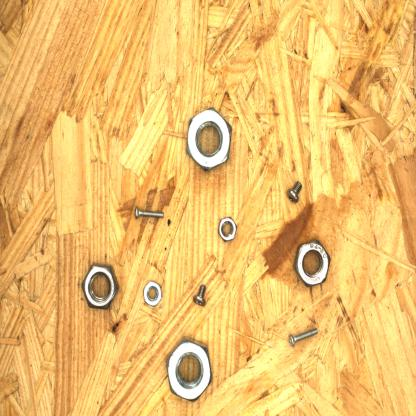screw: (286, 320, 326, 352), (134, 202, 169, 232), (191, 280, 213, 317), (285, 177, 307, 210)
